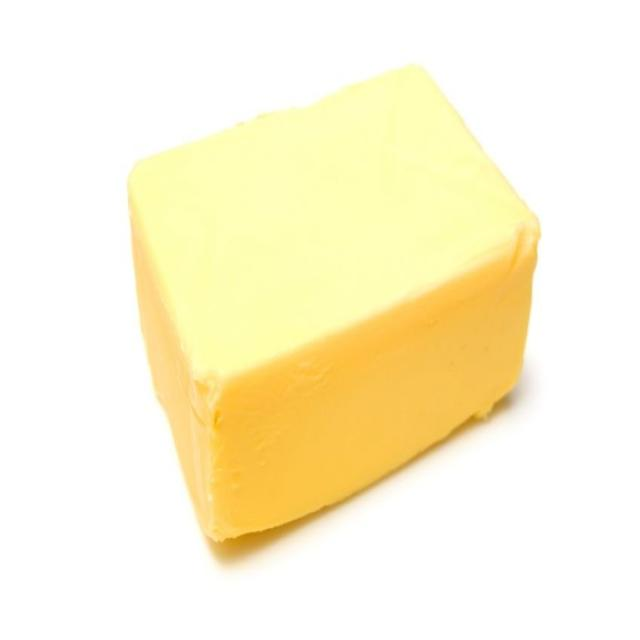Butter: (120, 67, 540, 557)
